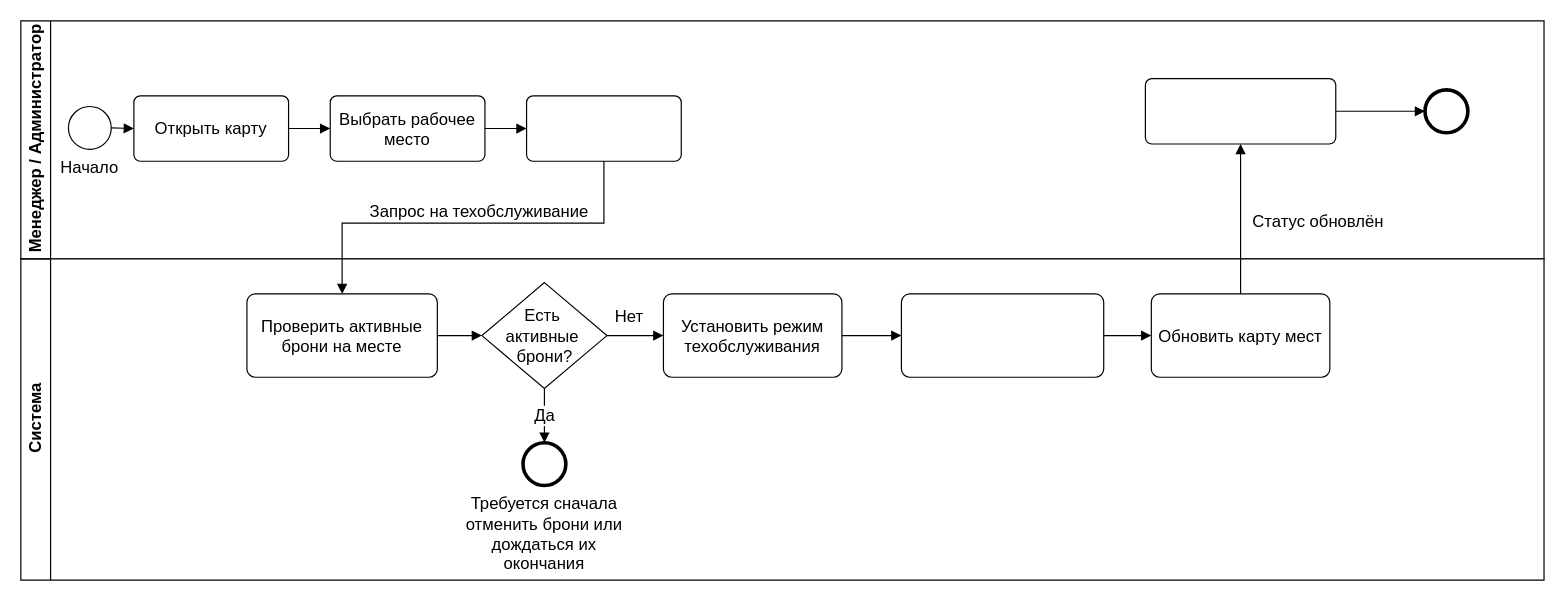
Image size: 1565x601. Some labels were removed from this diagram. Each missing label, with the centre of its shape:
Включить режим техобслуживания: (603,128)
Место на техобслуживании: (1446,110)
Просмотр обновлённого статуса места: (1240,110)
Сделать место недоступным, индикатор - серый: (1002,335)
